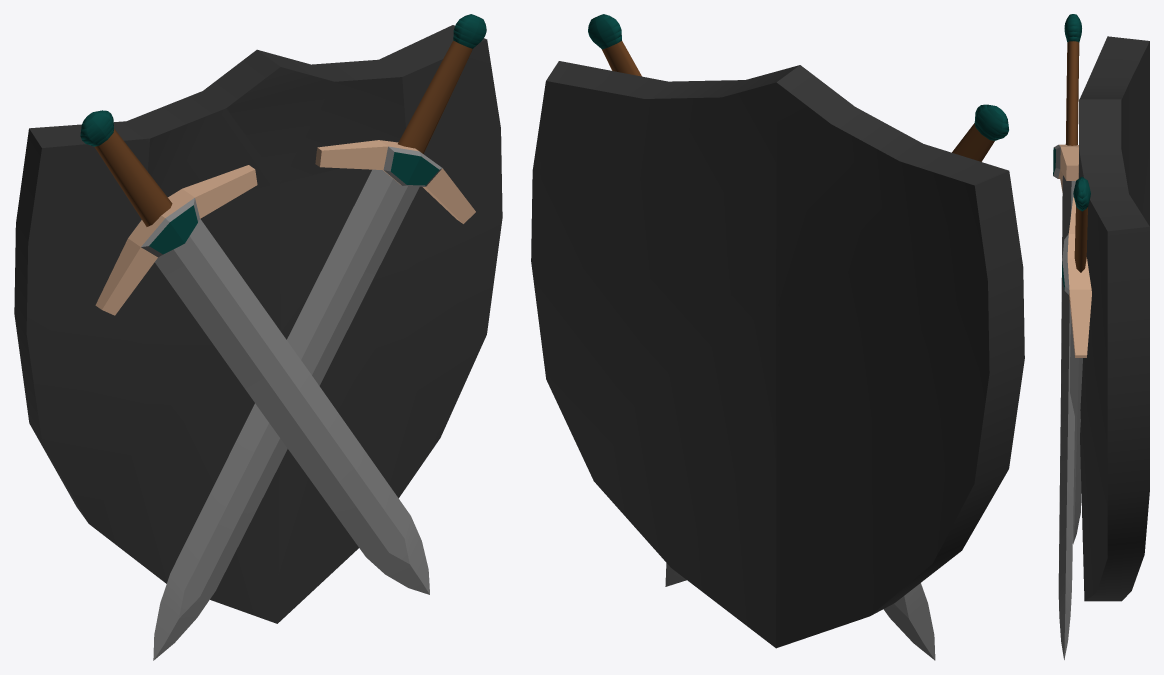
Rendered from Comb_7.fbx.
3 renders of one model, left to right at view 1: azimuth 30°, elevation 25°; view 2: azimuth 150°, elevation 25°; view 3: azimuth 270°, elevation 25°, orthographic. The views are drawn at different scales.
Parts seen in each view (by area): view 1: Shield4.003, Sword3.008; view 2: Shield4.003, Sword3.008; view 3: Shield4.003, Sword3.008.
Part boxes in pixels (left/top/right/bottom): Shield4.003: left=14, top=25, right=502, bottom=623; Sword3.008: left=80, top=14, right=486, bottom=660; Shield4.003: left=531, top=61, right=1024, bottom=648; Sword3.008: left=588, top=14, right=1008, bottom=660; Shield4.003: left=1079, top=36, right=1149, bottom=601; Sword3.008: left=1053, top=14, right=1091, bottom=659.
Bounding box in the file's own units: 58.12 × 65.84 × 11.4.
